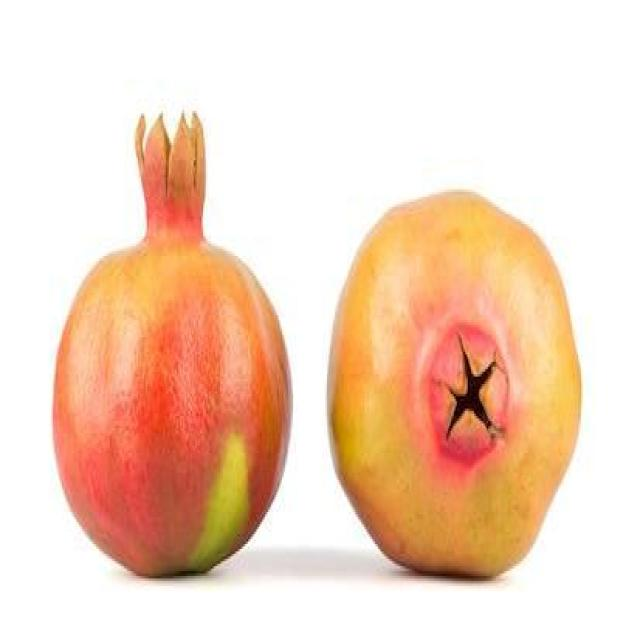Pomegranate: (50, 102, 296, 580), (323, 184, 585, 581)
